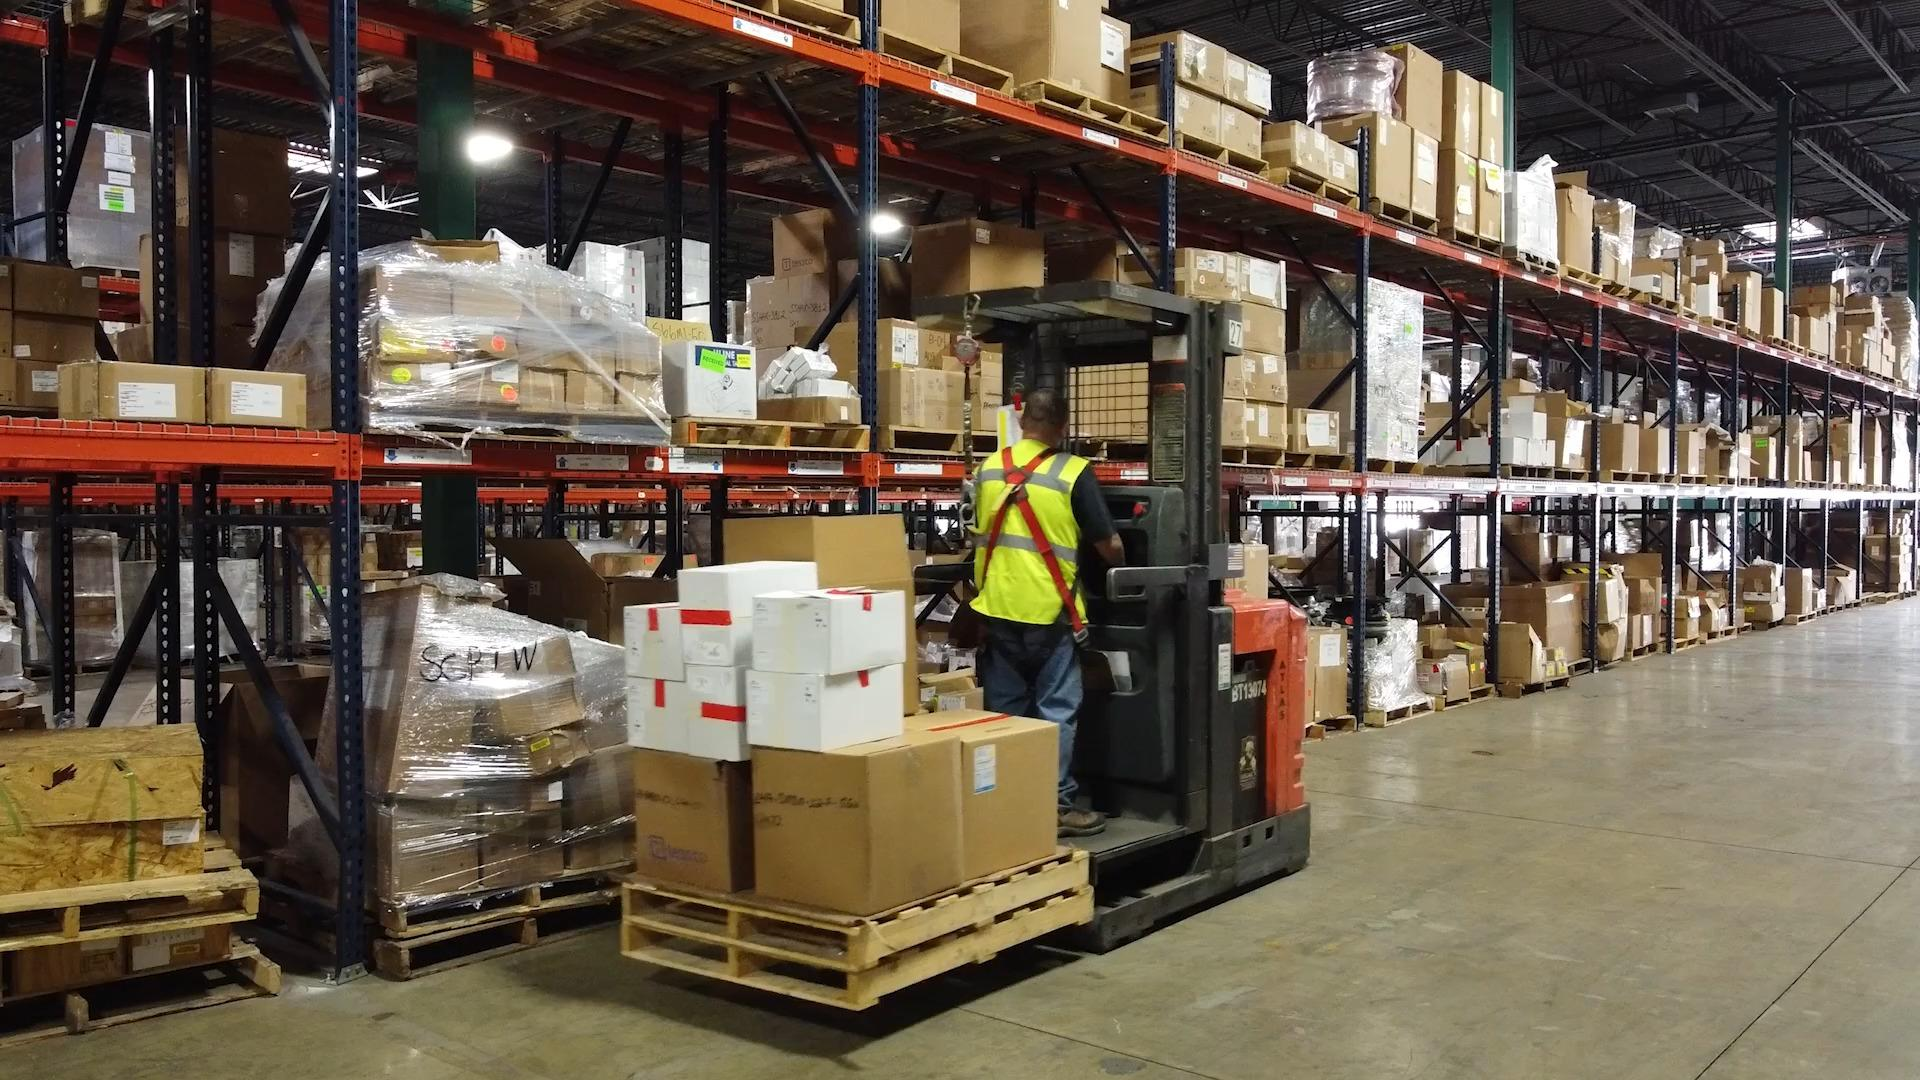-: (748, 741, 959, 913), (915, 700, 1063, 886), (756, 580, 895, 754), (736, 516, 910, 626), (1296, 351, 1420, 464), (688, 558, 818, 666), (968, 1, 1104, 94), (636, 758, 741, 874), (1296, 269, 1425, 359), (926, 218, 1046, 298), (78, 357, 206, 425), (666, 340, 756, 422), (1503, 582, 1585, 670), (1121, 247, 1234, 305), (873, 363, 963, 430), (208, 365, 314, 422), (1137, 30, 1226, 96), (745, 277, 835, 342), (624, 596, 683, 688), (1569, 566, 1625, 662), (1389, 44, 1447, 135), (7, 260, 94, 320), (771, 208, 843, 278), (1134, 87, 1222, 141), (878, 1, 968, 51), (1364, 117, 1415, 204), (1509, 171, 1559, 255), (0, 315, 98, 353), (1224, 49, 1273, 119), (0, 356, 65, 409), (1439, 146, 1477, 235), (1265, 120, 1325, 174), (1440, 67, 1476, 152), (1213, 103, 1265, 158), (1226, 356, 1287, 401), (1230, 248, 1280, 302), (1582, 423, 1638, 471), (1561, 187, 1592, 268), (1415, 132, 1441, 218), (1478, 164, 1506, 244), (1244, 306, 1288, 353), (1242, 404, 1288, 447), (878, 326, 939, 359), (1292, 410, 1341, 451), (1725, 270, 1759, 327), (1481, 84, 1503, 164), (1549, 417, 1584, 468), (1633, 258, 1676, 298), (1436, 654, 1474, 699), (1636, 427, 1672, 472), (1513, 400, 1549, 440), (1598, 225, 1626, 277), (1440, 438, 1489, 467), (1626, 576, 1660, 615), (1785, 567, 1813, 613), (1679, 429, 1706, 473), (1746, 592, 1784, 621), (1751, 436, 1778, 477), (1627, 613, 1659, 646), (1675, 595, 1698, 637), (1746, 564, 1780, 592), (1763, 287, 1782, 336), (1498, 436, 1530, 463), (1693, 256, 1726, 278), (1698, 282, 1718, 315), (1691, 240, 1724, 255), (1681, 282, 1696, 309)
